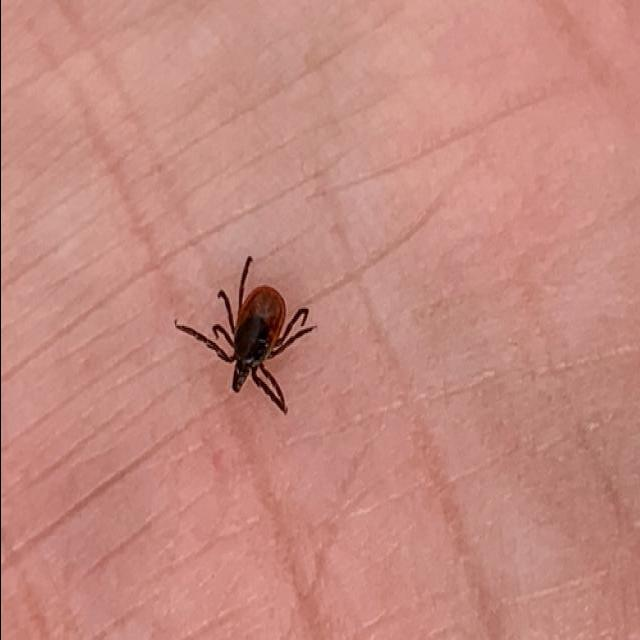Ixodes Ricinus-F: (177, 256, 317, 415)
